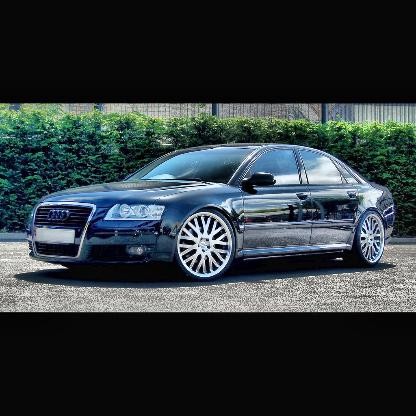Audi S6 Sedan 2011: (21, 132, 408, 303)
